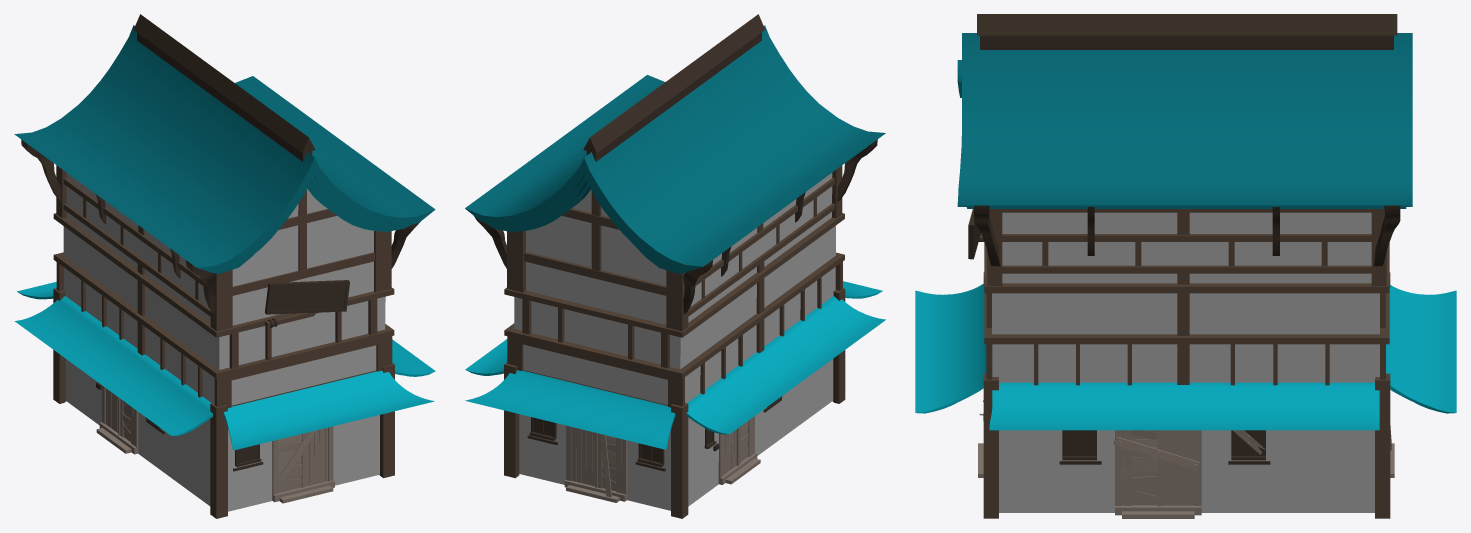
Rendered from 3dm_House1_01a.fbx.
The picture shows the model from 3 angles, left to right: view 1: azimuth 30°, elevation 25°; view 2: azimuth 150°, elevation 25°; view 3: azimuth 270°, elevation 25°; orthographic projection. The views are drawn at different scales.
Parts seen in each view (by area): view 1: house2_group3_polySurface5, base, house2_legnetti1_legno1, house2_group5_cosino_sopra3, house2_cose1_pCube58, house2_porte1_pCube102; view 2: house2_group3_polySurface5, base, house2_legnetti1_legno1, house2_group5_cosino_sopra3, house2_cose1_pCube58, house2_porte1_pCube102; view 3: house2_group3_polySurface5, base, house2_group5_cosino_sopra3, house2_legnetti1_legno1, house2_cose1_pCube58, house2_porte1_pCube102.
Boxes of the visible parts, bbox=[...] form: house2_group3_polySurface5: bbox=[14, 25, 435, 273]; base: bbox=[63, 173, 385, 511]; house2_legnetti1_legno1: bbox=[53, 165, 394, 518]; house2_group5_cosino_sopra3: bbox=[14, 282, 435, 450]; house2_cose1_pCube58: bbox=[21, 14, 420, 471]; house2_porte1_pCube102: bbox=[96, 385, 334, 503]; house2_group3_polySurface5: bbox=[465, 25, 885, 273]; base: bbox=[514, 173, 835, 510]; house2_legnetti1_legno1: bbox=[504, 165, 845, 518]; house2_group5_cosino_sopra3: bbox=[465, 281, 885, 449]; house2_cose1_pCube58: bbox=[474, 14, 877, 471]; house2_porte1_pCube102: bbox=[564, 416, 760, 502]; house2_group3_polySurface5: bbox=[957, 33, 1412, 208]; base: bbox=[992, 212, 1379, 512]; house2_group5_cosino_sopra3: bbox=[915, 284, 1456, 430]; house2_legnetti1_legno1: bbox=[978, 209, 1390, 518]; house2_cose1_pCube58: bbox=[968, 14, 1400, 464]; house2_porte1_pCube102: bbox=[978, 400, 1394, 518].
Size of the model in its own units: 716 by 934 by 1017.
